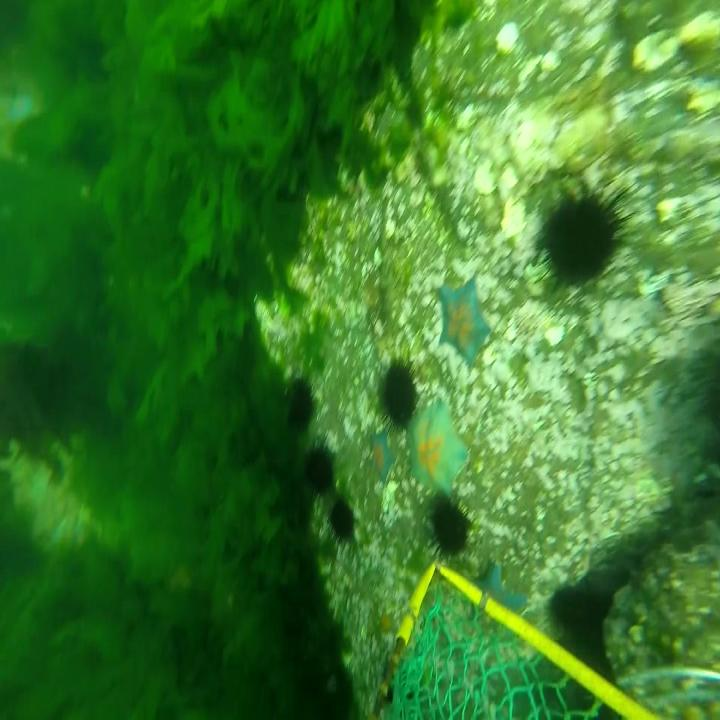echinus: (533, 165, 643, 295), (426, 491, 473, 568), (378, 353, 420, 438), (546, 581, 598, 642), (302, 438, 336, 499), (286, 370, 316, 438), (326, 496, 356, 555)
starfish: (402, 395, 474, 502), (435, 272, 493, 367), (470, 555, 531, 645), (368, 430, 397, 485)
